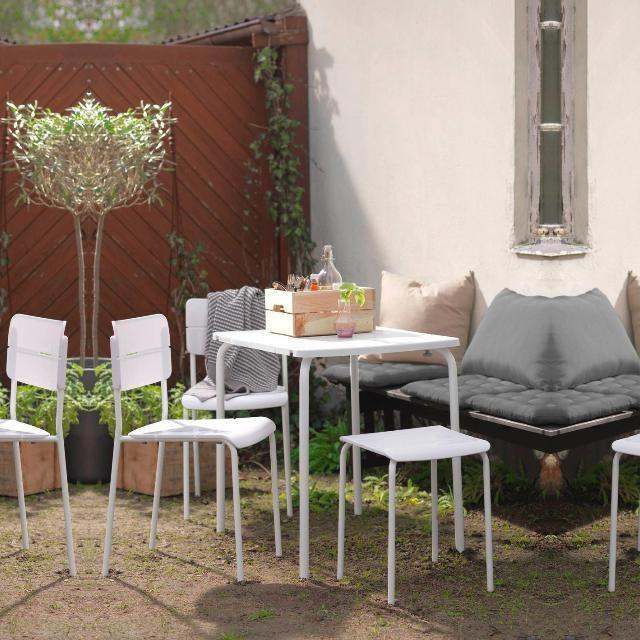obstacle: (97, 271, 499, 607), (0, 271, 79, 607), (602, 271, 640, 607)
